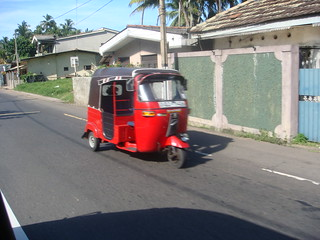threewheel: (81, 66, 190, 169)
